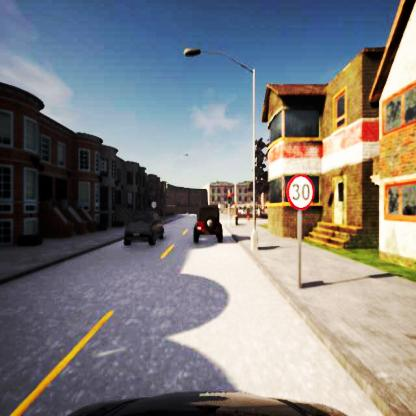vehicle: (124, 214, 162, 244), (194, 204, 221, 240)
